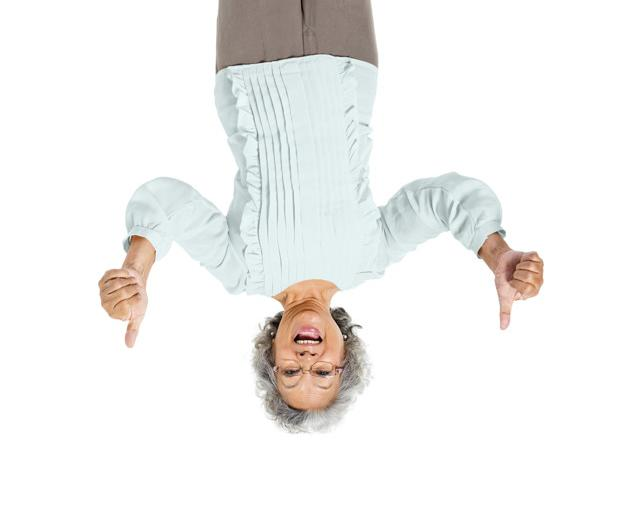thumbsdown: (498, 251, 544, 331), (98, 268, 142, 349)
